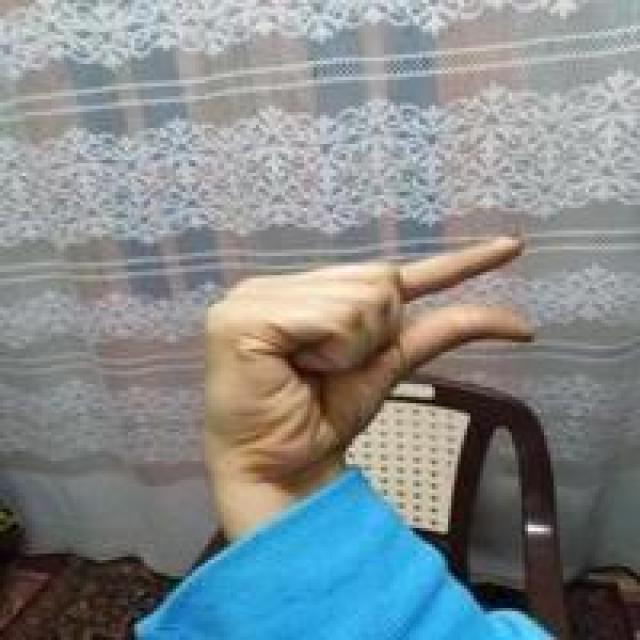G: (200, 226, 536, 459)
